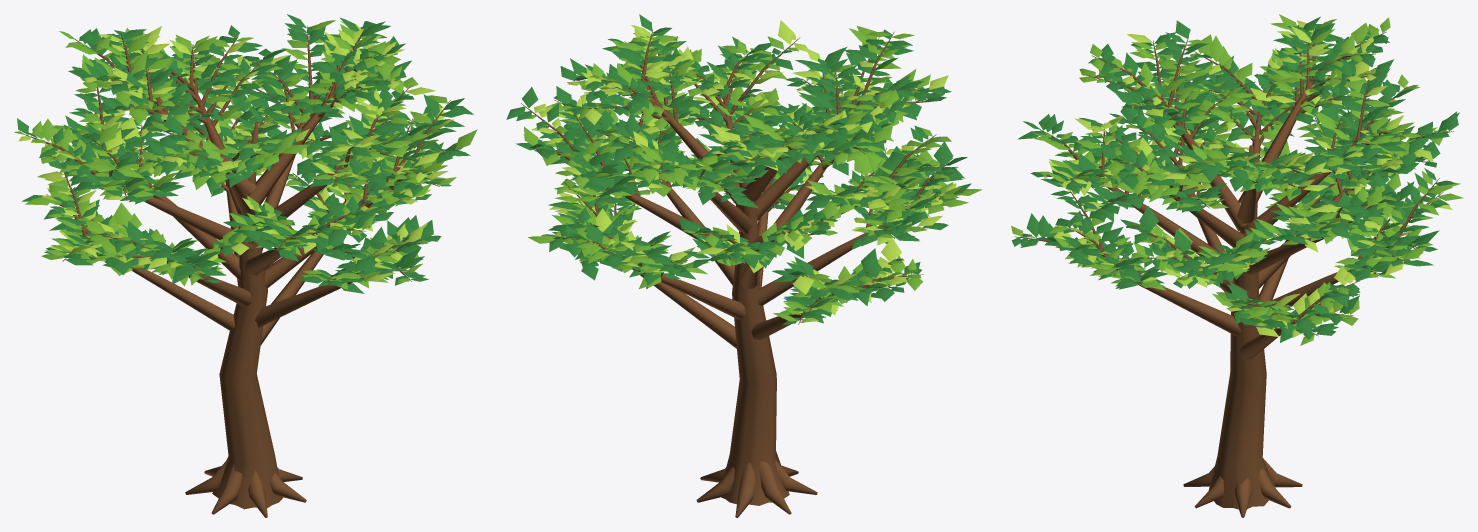
File: Tree-1.glb
3 renders of one model, left to right at view 1: azimuth 30°, elevation 25°; view 2: azimuth 150°, elevation 25°; view 3: azimuth 270°, elevation 25°, orthographic. The views are drawn at different scales.
Parts seen in each view (by area): view 1: Neris Mature Jade Leaves, Neris Young Olive Leaves, Neris Ridged Chestnut Bark, Neris Sunlit Leaf Tips; view 2: Neris Mature Jade Leaves, Neris Young Olive Leaves, Neris Ridged Chestnut Bark, Neris Sunlit Leaf Tips; view 3: Neris Mature Jade Leaves, Neris Young Olive Leaves, Neris Ridged Chestnut Bark, Neris Sunlit Leaf Tips.
Boxes of the visible parts, left/top/right/bottom form: Neris Mature Jade Leaves: left=17, top=14, right=473, bottom=293; Neris Young Olive Leaves: left=14, top=20, right=477, bottom=289; Neris Ridged Chestnut Bark: left=25, top=25, right=457, bottom=517; Neris Sunlit Leaf Tips: left=18, top=21, right=454, bottom=281; Neris Mature Jade Leaves: left=506, top=14, right=971, bottom=325; Neris Young Olive Leaves: left=524, top=26, right=981, bottom=321; Neris Ridged Chestnut Bark: left=521, top=30, right=960, bottom=517; Neris Sunlit Leaf Tips: left=531, top=20, right=956, bottom=322; Neris Mature Jade Leaves: left=1011, top=16, right=1459, bottom=342; Neris Young Olive Leaves: left=1011, top=14, right=1463, bottom=345; Neris Ridged Chestnut Bark: left=1014, top=25, right=1453, bottom=517; Neris Sunlit Leaf Tips: left=1048, top=20, right=1452, bottom=337.
Bounding box in the file's own units: 5.55 × 5.66 × 5.46.
